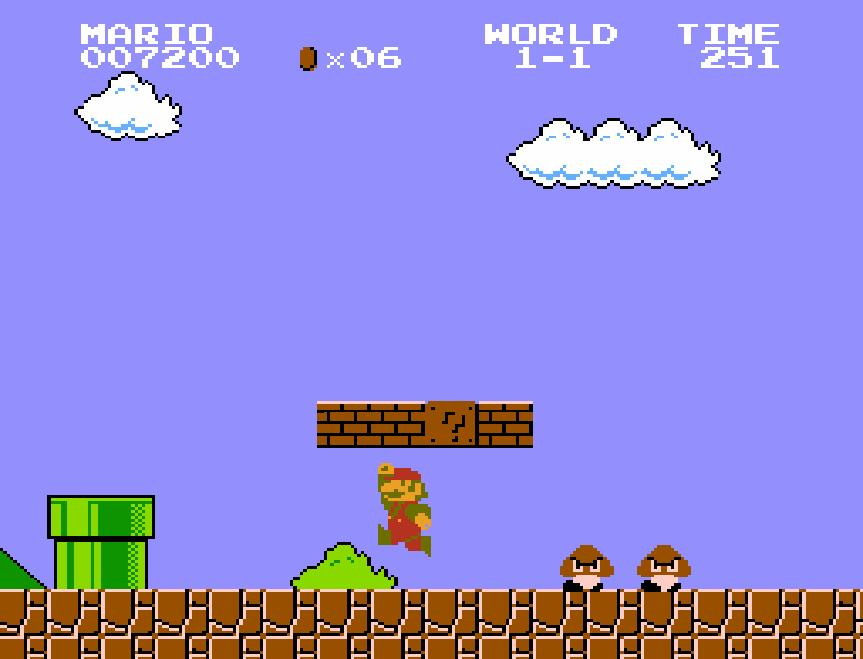big_mario: (376, 461, 434, 559)
